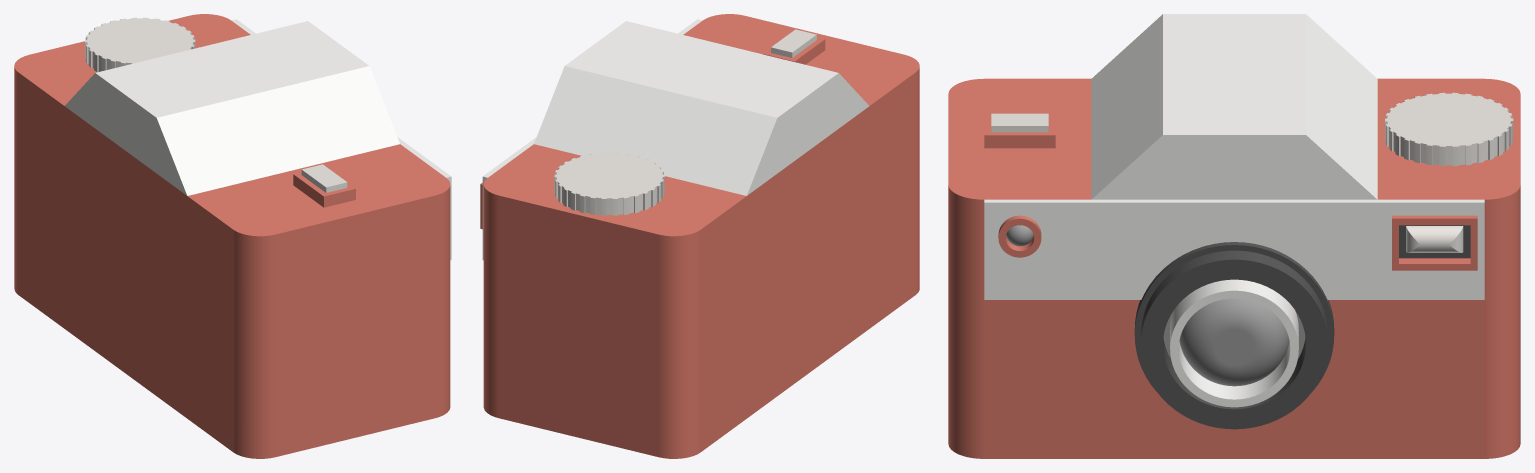
Rendered from object-camera.glb.
3 views of the same model, side by side, from view 1: azimuth 30°, elevation 25°; view 2: azimuth 150°, elevation 25°; view 3: azimuth 270°, elevation 25° (orthographic). The views are drawn at different scales.
Parts seen in each view (by area): view 1: Body1, Body14, Body9, Body10, Body11; view 2: Body1, Body14, Body9, Body10, Body11; view 3: Body1, Body14, Body11, Body2, Body9, Body4, Body5, Body6, Body13, Body8, Body10, Body12 (+1 smaller).
Part boxes in pixels (x1,y1,x2,y2): Body1: (14, 14, 450, 458); Body14: (65, 21, 399, 195); Body9: (85, 17, 195, 72); Body10: (301, 164, 347, 192); Body11: (231, 19, 451, 260); Body1: (483, 14, 919, 458); Body14: (534, 21, 869, 195); Body9: (554, 152, 664, 215); Body10: (771, 29, 816, 57); Body11: (482, 19, 702, 260); Body1: (948, 78, 1520, 458); Body14: (1091, 14, 1377, 199); Body11: (984, 199, 1484, 299); Body2: (1141, 250, 1327, 429); Body9: (1385, 92, 1513, 166); Body4: (1179, 298, 1289, 386); Body5: (1170, 279, 1298, 407); Body6: (1134, 242, 1334, 391); Body13: (1392, 215, 1477, 270); Body8: (1406, 226, 1463, 252); Body10: (991, 113, 1048, 132); Body12: (998, 215, 1041, 257).
Bounding box in the file's own units: 1.2 × 1.29 × 2.07.
